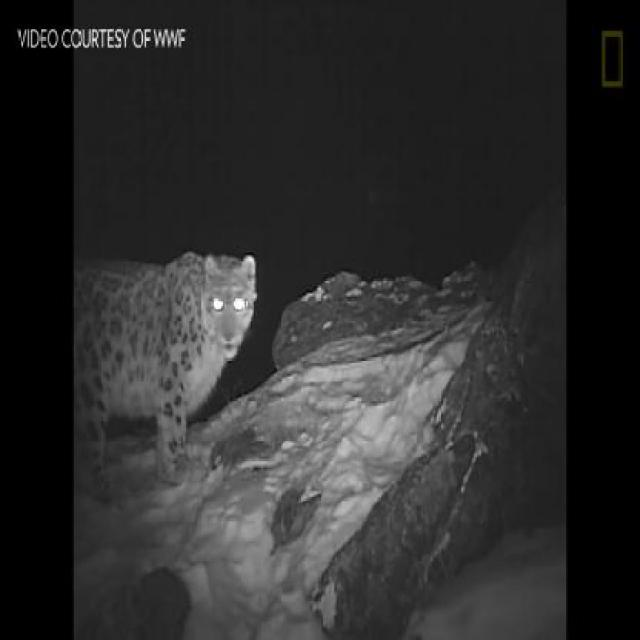Leopard: (80, 214, 272, 486)
